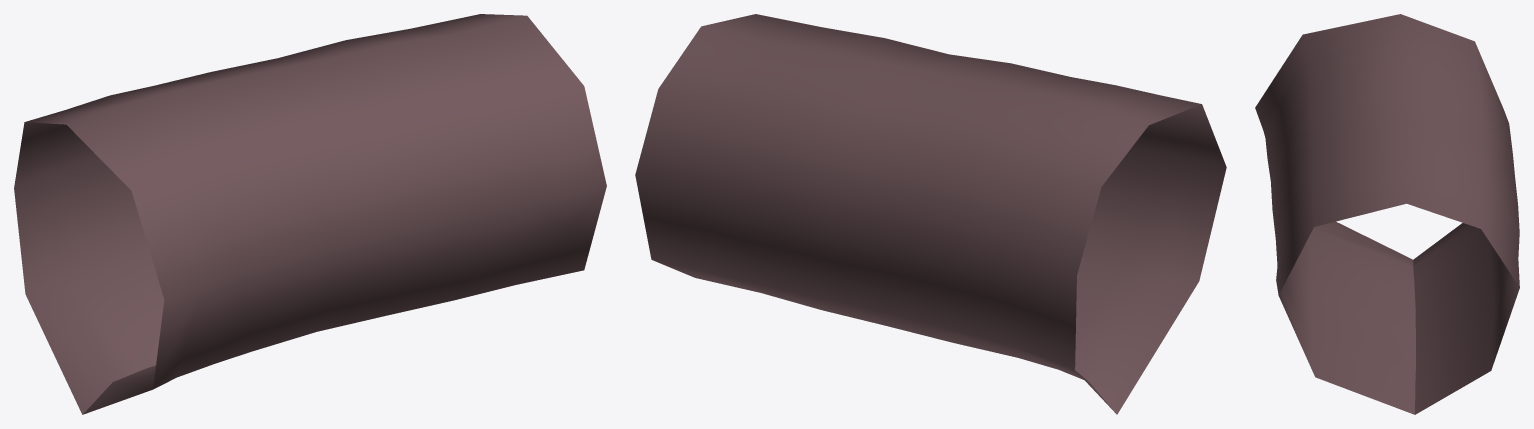
The model's file is bDerOak.obj.
The picture shows the model from 3 angles, left to right: view 1: azimuth 30°, elevation 25°; view 2: azimuth 150°, elevation 25°; view 3: azimuth 270°, elevation 25°; orthographic projection. The views are drawn at different scales.
Parts seen in each view (by area): view 1: RArm, RArmEX, BrazoDer_body.001, RForeArm, RShoulder; view 2: RArm, RArmEX, BrazoDer_body.001, RForeArm, RShoulder; view 3: RArm, RArmEX, RForeArm, BrazoDer_body.001, RShoulder.
Part boxes in pixels (<box>): RArm: <box>212,15,606,331</box>; RArmEX: <box>50,72,341,381</box>; BrazoDer_body.001: <box>14,108,201,414</box>; RForeArm: <box>413,14,606,269</box>; RShoulder: <box>24,122,201,389</box>; RArm: <box>635,14,1010,342</box>; RArmEX: <box>898,63,1183,381</box>; BrazoDer_body.001: <box>1036,95,1226,414</box>; RForeArm: <box>635,14,767,292</box>; RShoulder: <box>1036,158,1199,281</box>; RArm: <box>1271,89,1519,386</box>; RArmEX: <box>1261,26,1514,309</box>; RForeArm: <box>1279,177,1519,414</box>; BrazoDer_body.001: <box>1255,14,1507,257</box>; RShoulder: <box>1475,42,1508,122</box>.
Size of the model in its own units: 22.1 by 14 by 13.41.
